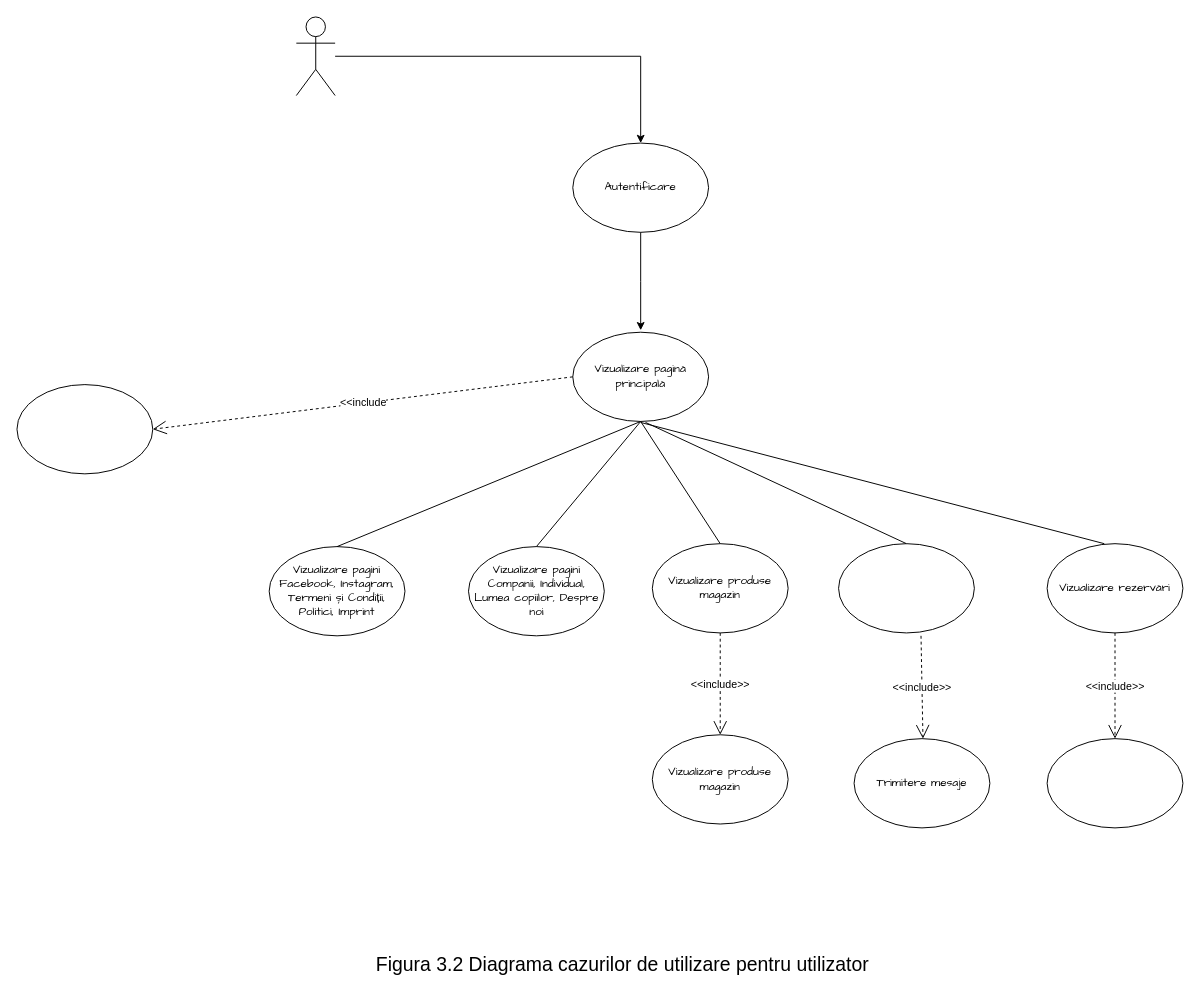
This 1200x995 diagram has some shape labels left out. Here are the shapes that lost their labels. From the top down, the centre of each, then its label:
At [315,56]: "Utilizator".
At [84,429]: "Adăugare review".
At [906,588]: "Vizualizare pagină Contact".
At [1114,783]: "Adăugare rezervare".
